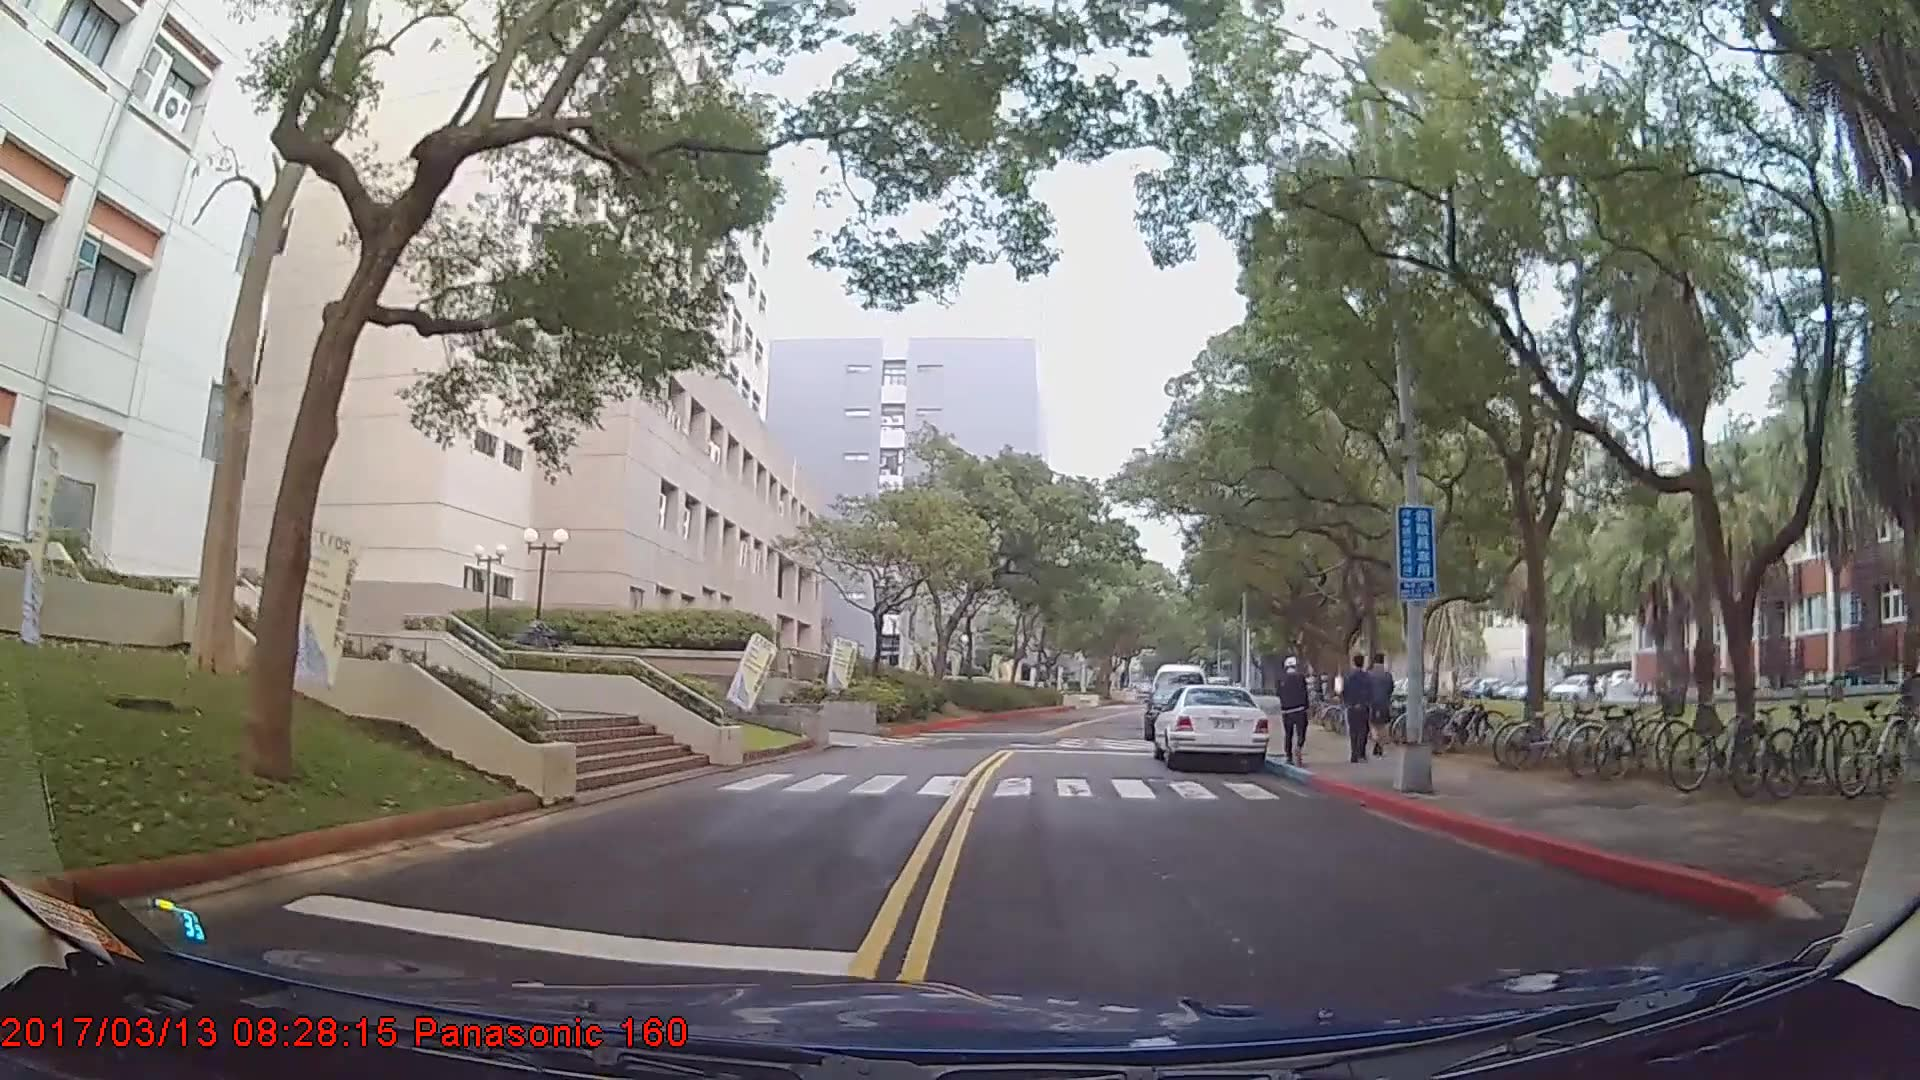pedestrian: (1344, 650, 1380, 764), (1281, 658, 1311, 767)
vehicle: (1149, 684, 1269, 771)
